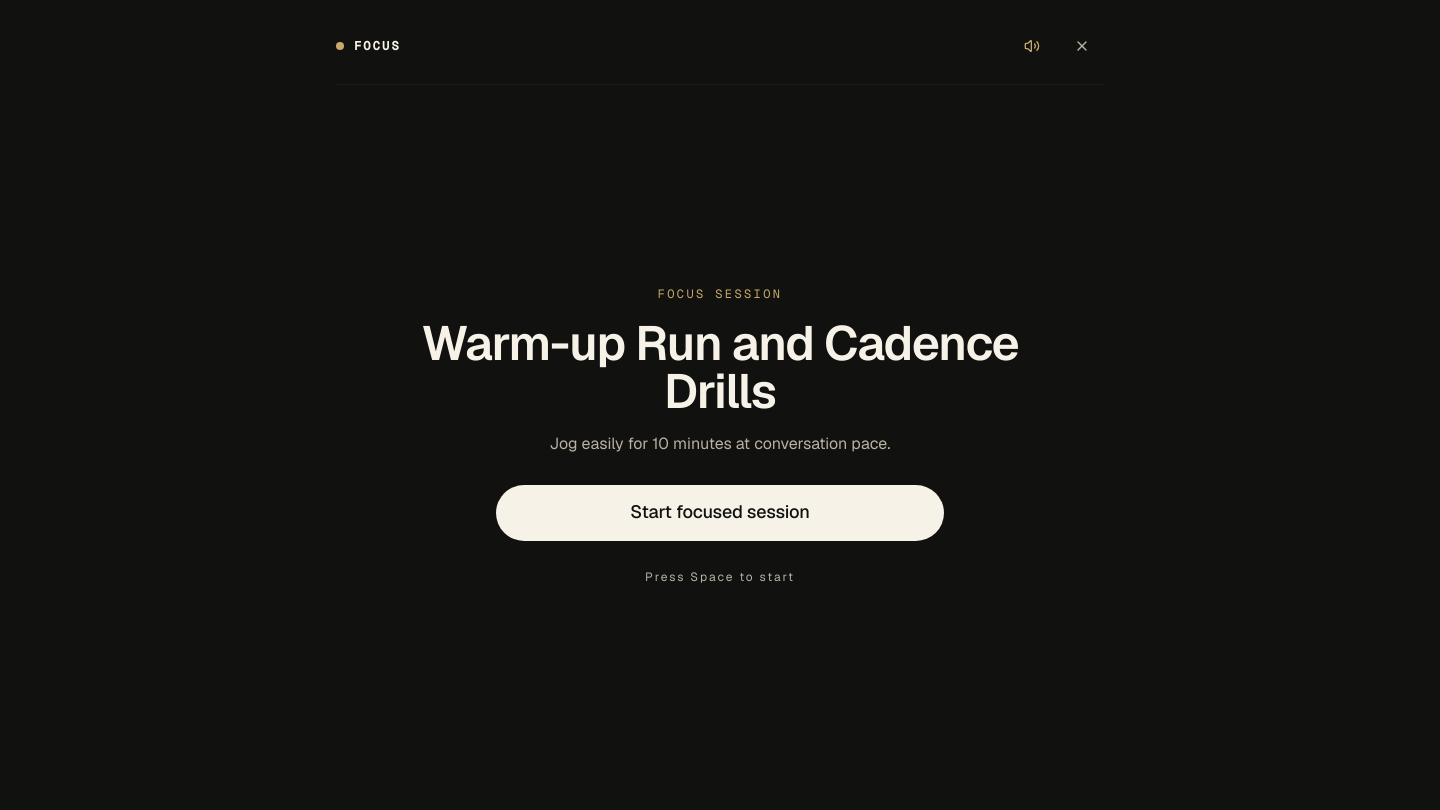
it: FocusSessionModal › starts the timer only after the user starts
This screenshot has width=1440, height=810.
What coordinates should you click on to do the following:
click the button "Start focused session"
I would click on:
 (720, 512)
Its box is [496,484,944,540].
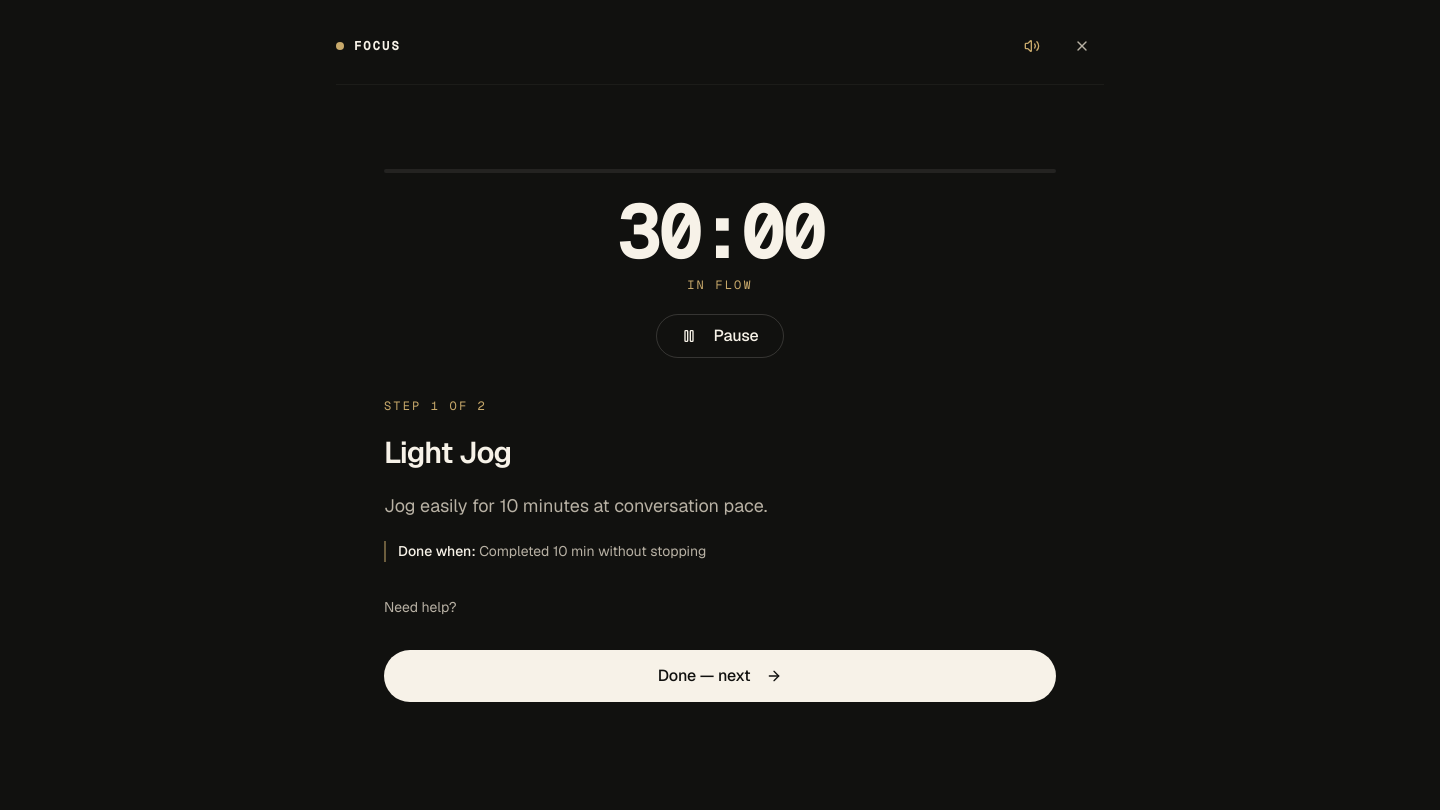
Expected: the text "30:00" is shown, [616,197,824,269]
Expected: the text "In flow" is shown, [687,277,753,294]
Expected: the text "Step 1 of 2" is shown, [384,398,487,414]
